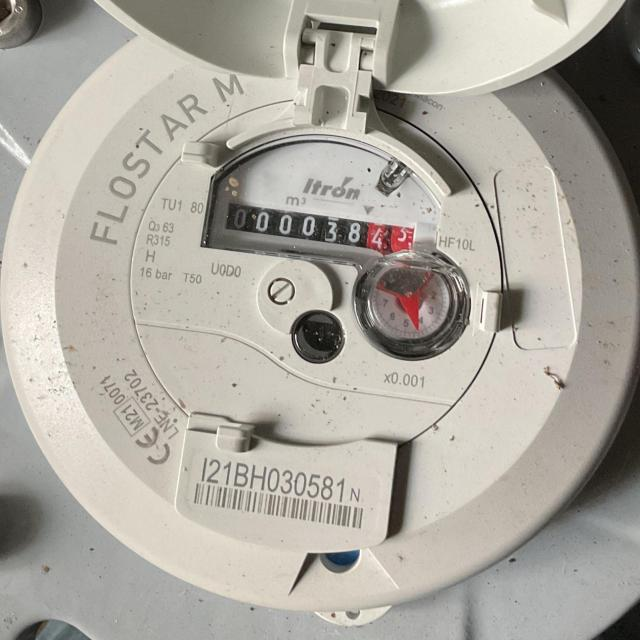gaz_meter: (92, 64, 555, 493)
indication: (223, 201, 419, 256)
